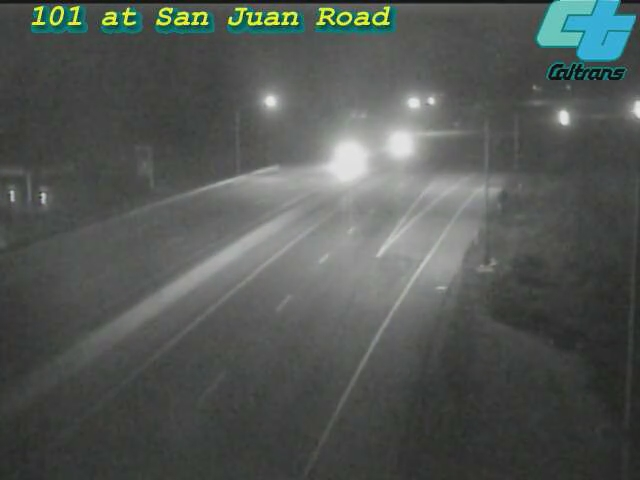vehicle: (321, 130, 371, 180), (376, 117, 426, 167), (539, 93, 589, 143), (612, 88, 640, 138)
